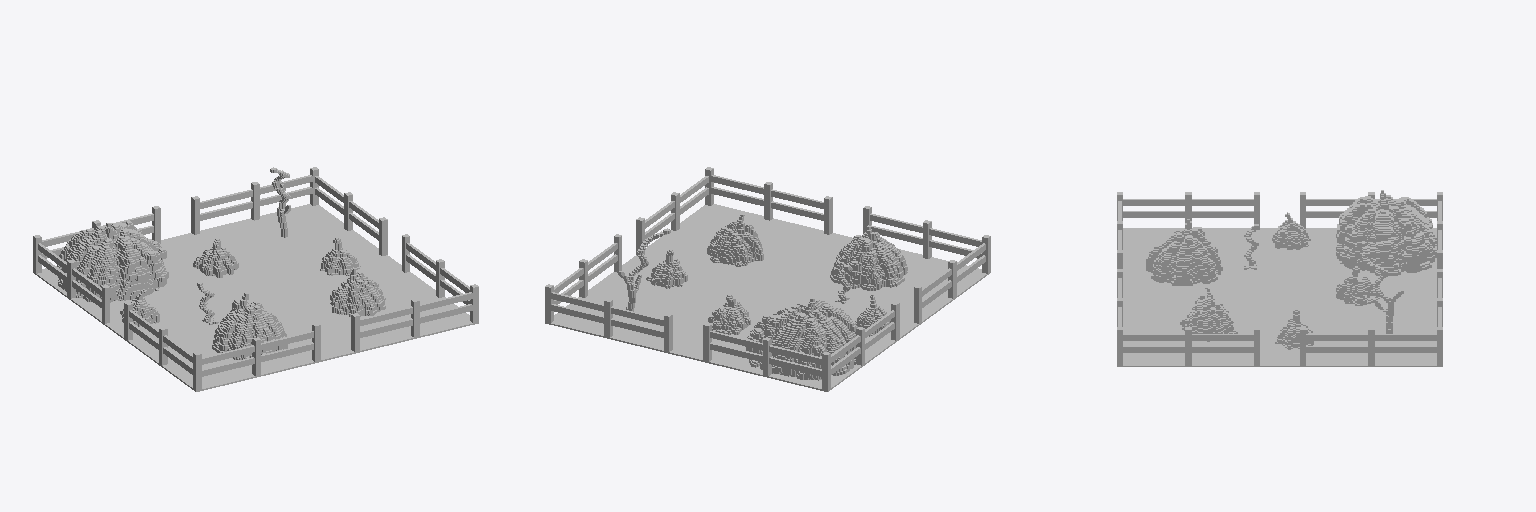
The model's file is pole.obj.
The picture shows the model from 3 angles: view 1: azimuth 30°, elevation 25°; view 2: azimuth 150°, elevation 25°; view 3: azimuth 270°, elevation 25°; orthographic projection.
Parts seen in each view (by area): view 1: object 1; view 2: object 1; view 3: object 1.
Boxes of the visible parts, box(x1,y1,x2,y2) form: object 1: box(33, 167, 478, 391); object 1: box(545, 167, 990, 391); object 1: box(1117, 190, 1442, 366).
Size of the model in its own units: 20 by 5.7 by 20.